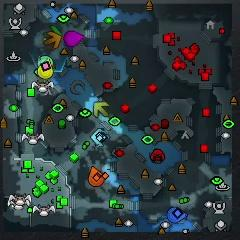p1: (166, 206, 188, 224)
p2: (37, 55, 54, 75)
p3: (63, 31, 85, 46)
p4: (38, 58, 53, 79)
p5: (88, 166, 105, 187)
x2: (93, 101, 109, 118)
x3: (90, 127, 111, 147)
x4: (44, 24, 62, 39)
x5: (44, 31, 61, 49)
